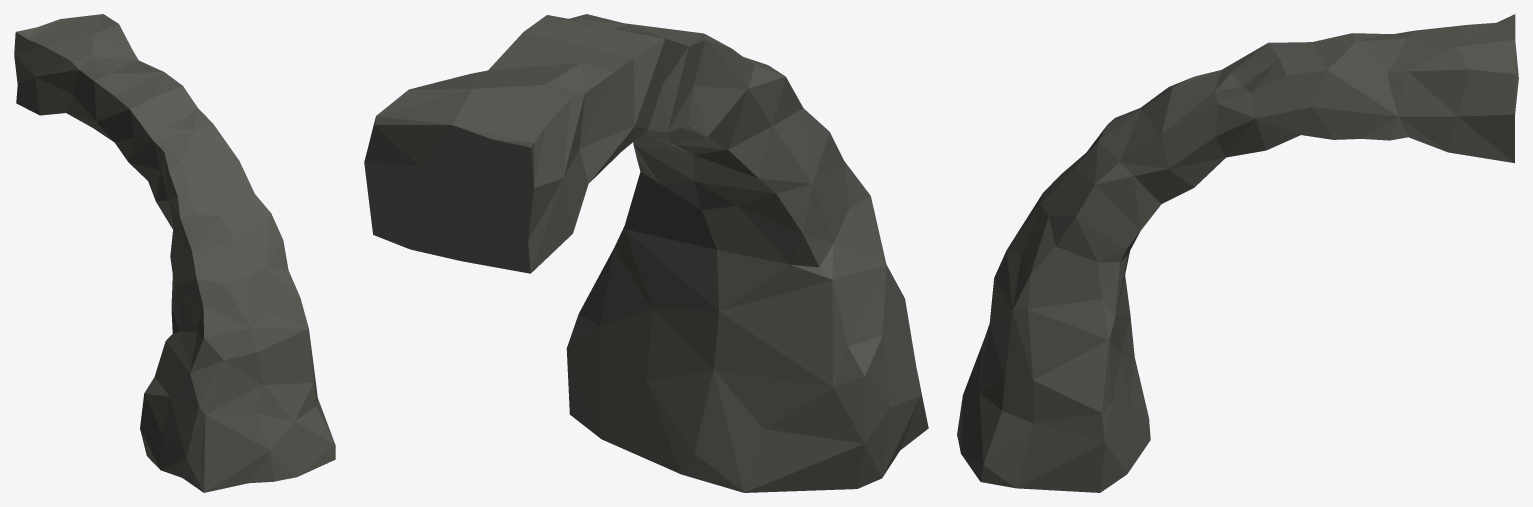
File: Rock_Arch.fbx
3 views of the same model, side by side, from view 1: azimuth 30°, elevation 25°; view 2: azimuth 150°, elevation 25°; view 3: azimuth 270°, elevation 25° (orthographic). The views are drawn at different scales.
Visible parts, largest first — view 1: Rock_Arch; view 2: Rock_Arch; view 3: Rock_Arch.
Part boxes in pixels (x1=…): Rock_Arch: x1=14, y1=14, x2=335, y2=492; Rock_Arch: x1=364, y1=14, x2=928, y2=492; Rock_Arch: x1=957, y1=14, x2=1518, y2=492.
Bounding box in the file's own units: 787 × 1365 × 1734.
